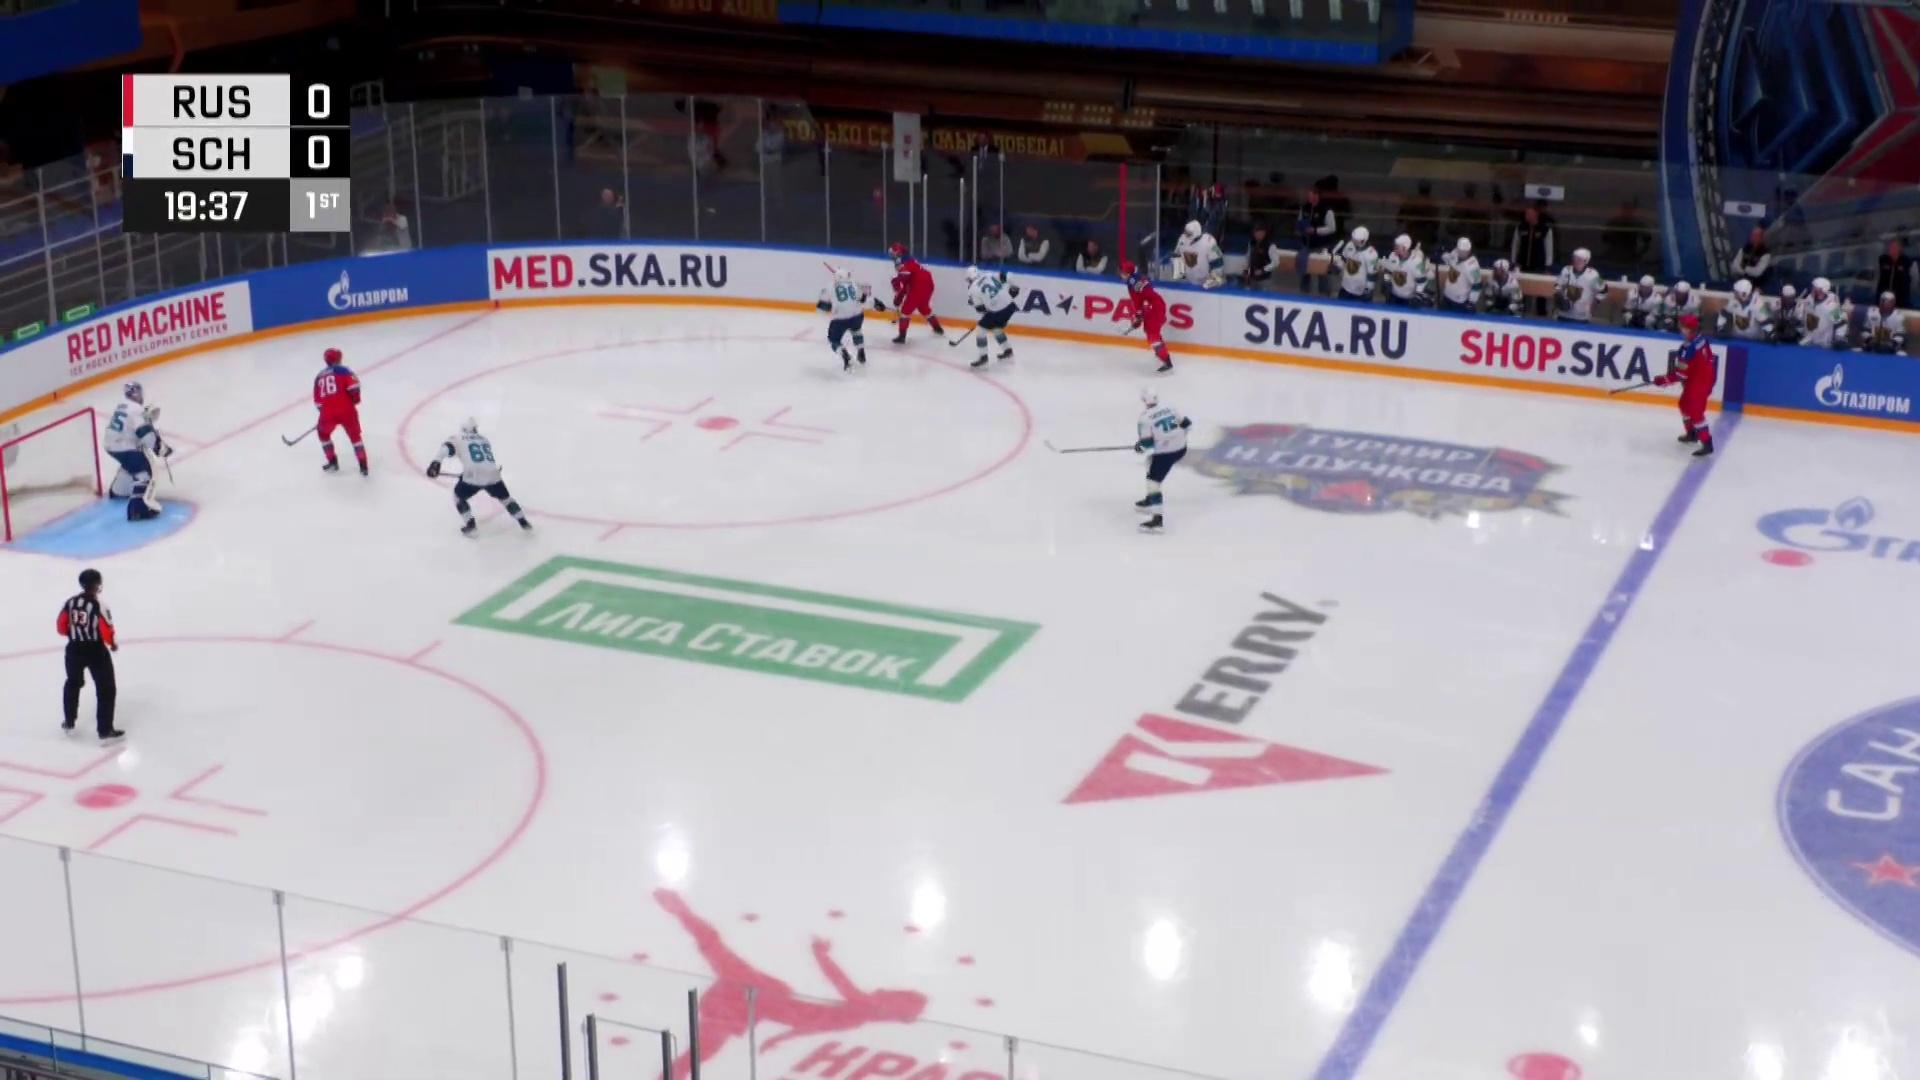ball: (890, 320, 897, 326)
